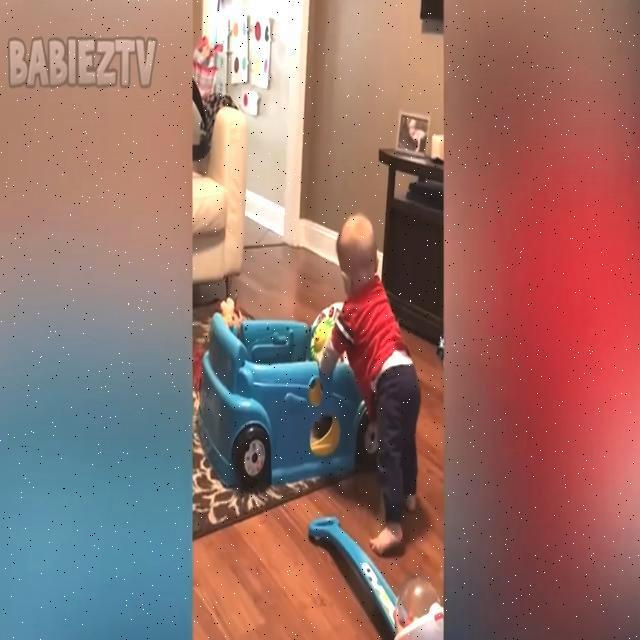child: (320, 213, 423, 550)
